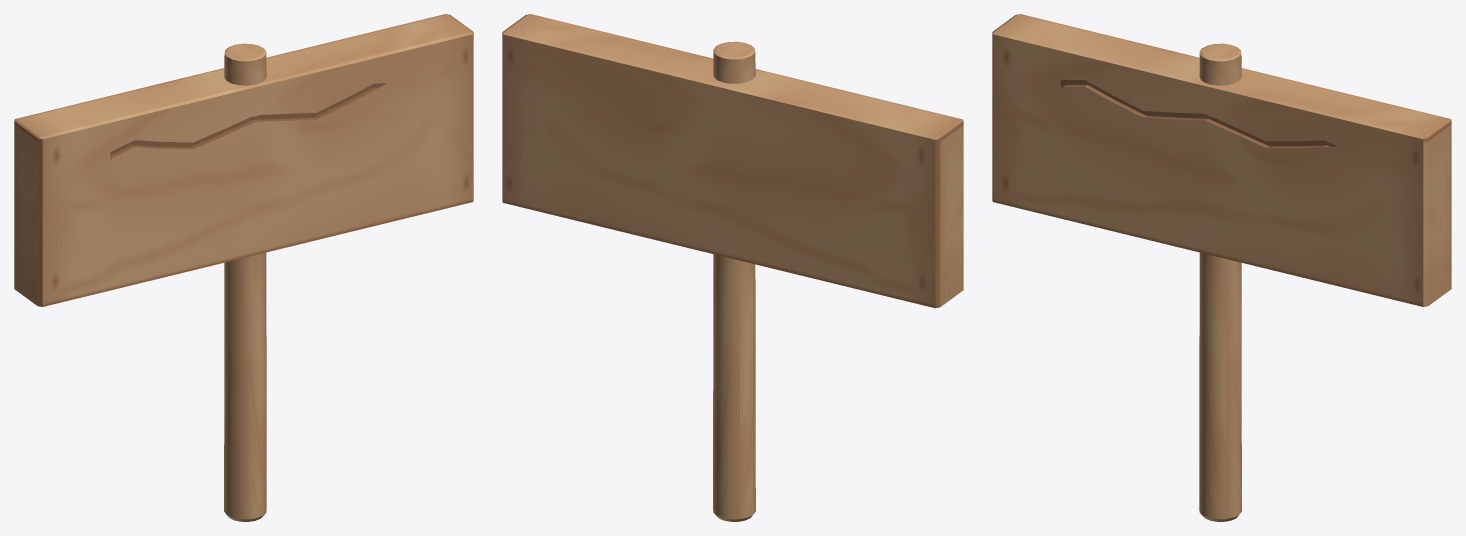
File: Sign.fbx
3 views of the same model, side by side, from view 1: azimuth 30°, elevation 25°; view 2: azimuth 150°, elevation 25°; view 3: azimuth 330°, elevation 25° (orthographic).
Parts seen in each view (by area): view 1: Cube.001, Cylinder, Cylinder.001; view 2: Cube.001, Cylinder, Cylinder.001; view 3: Cube.001, Cylinder, Cylinder.001.
Boxes of the visible parts, bbox=[...] form: Cube.001: bbox=[14, 14, 473, 306]; Cylinder: bbox=[224, 252, 266, 521]; Cylinder.001: bbox=[224, 43, 266, 116]; Cube.001: bbox=[502, 14, 963, 308]; Cylinder: bbox=[713, 254, 755, 521]; Cylinder.001: bbox=[713, 41, 755, 83]; Cube.001: bbox=[992, 14, 1451, 306]; Cylinder: bbox=[1199, 252, 1241, 521]; Cylinder.001: bbox=[1199, 43, 1241, 116].
Bounding box in the file's own units: 135 × 137 × 14.91.
